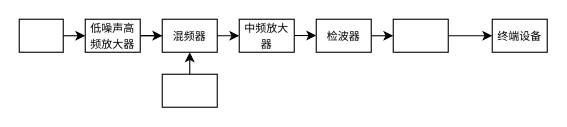
Some shapes in this 567 by 127 pixel diagram are drawn without their labels. The centre of each missing label's shape, as x and y in pixels:
"接收机保护器" belongs at point (40, 35).
"本阵" belongs at point (189, 90).
"视频放大器" belongs at point (420, 35).
